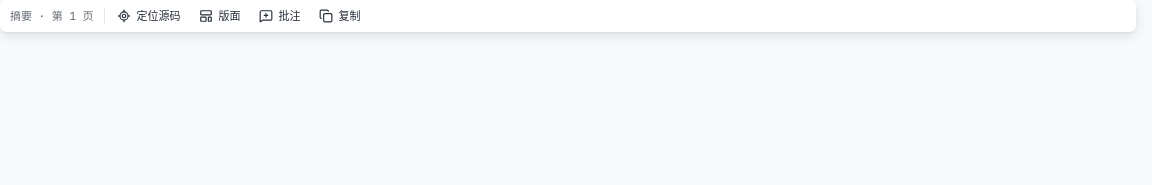
批67 批注草稿守卫 › 批注框空内容点取消 → 直接收起不询问
Click the button with test id "pdf-sel-comment": (280, 16) x1=251 y1=4 x2=309 y2=28
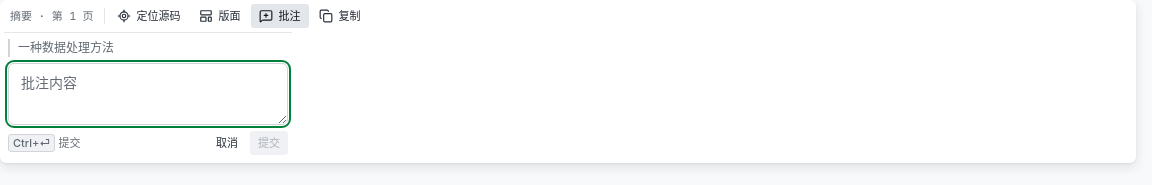
Click the button "取消": (227, 143) x1=208 y1=131 x2=246 y2=155
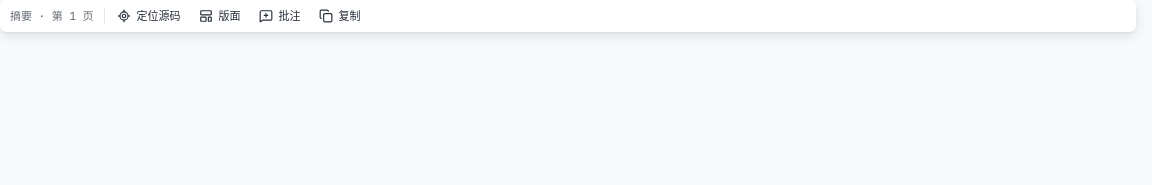
Expected: the text box is gone
